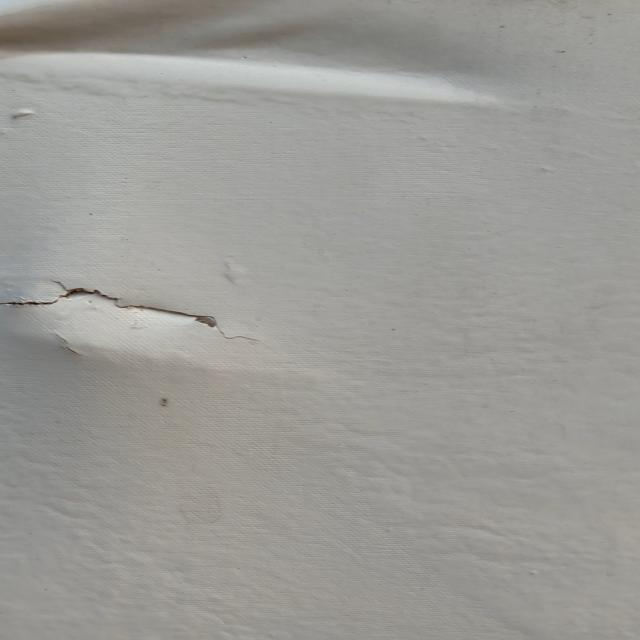Dents or Deformation: (1, 1, 499, 115)
Scratches: (1, 244, 276, 355)
